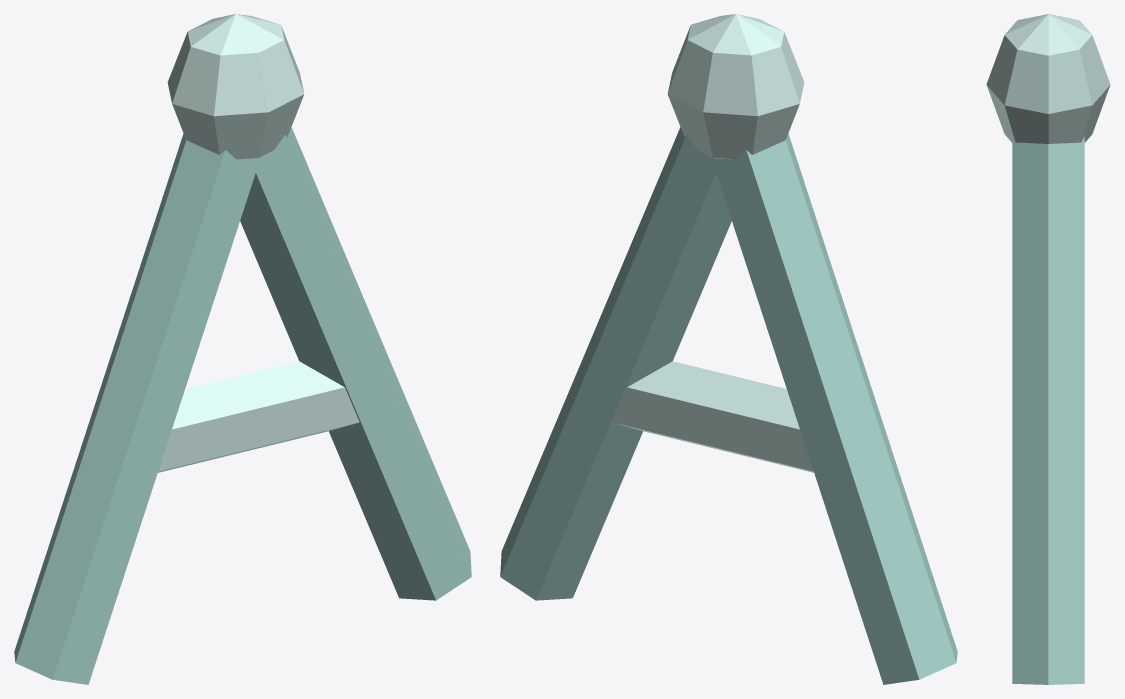
The model's file is runa.glb.
3 views of the same model, side by side, from view 1: azimuth 30°, elevation 25°; view 2: azimuth 150°, elevation 25°; view 3: azimuth 270°, elevation 25° (orthographic). The views are drawn at different scales.
Parts seen in each view (by area): view 1: runa; view 2: runa; view 3: runa.
Boxes of the visible parts, left/top/right/bottom form: runa: left=14, top=14, right=471, bottom=684; runa: left=500, top=14, right=957, bottom=684; runa: left=986, top=14, right=1110, bottom=684.
Bounding box in the file's own units: 0.3204 × 0.42 × 0.08.
